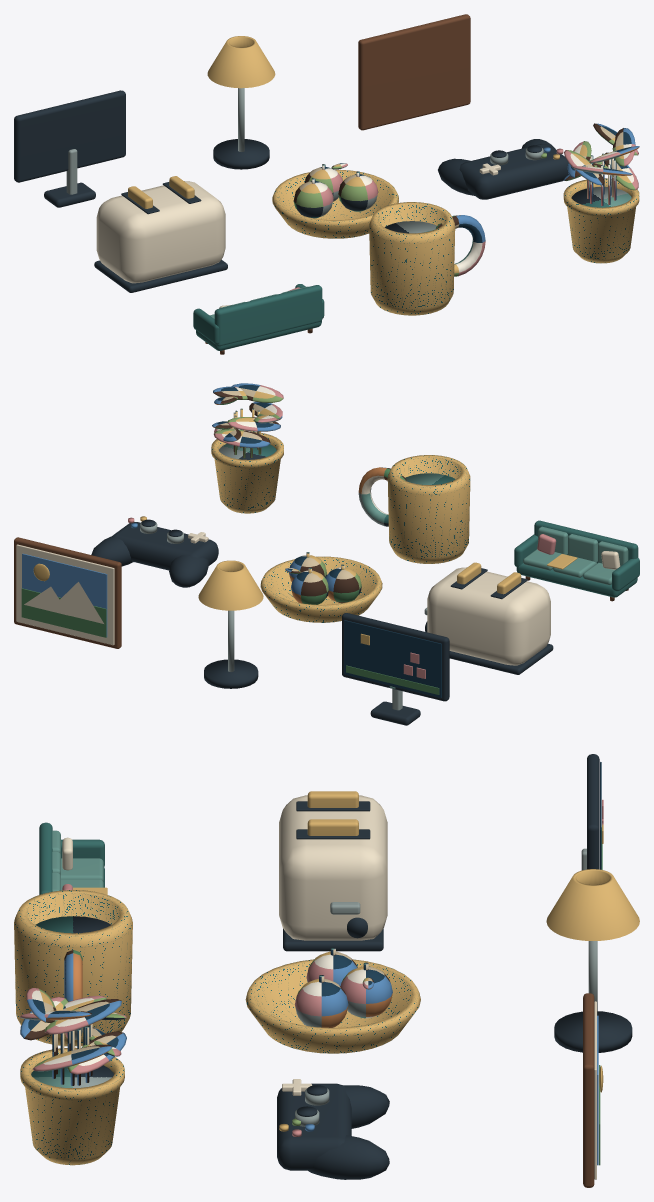
File: HouseDetailKit.fbx
The picture shows the model from 3 angles, top to bottom: view 1: azimuth 30°, elevation 25°; view 2: azimuth 150°, elevation 25°; view 3: azimuth 270°, elevation 25°; orthographic projection. The views are drawn at different scales.
Visible parts, largest first — view 1: Toaster, PictureFrame, CeramicMug, GamingMonitor, PottedFern, FruitBowl, Sofa, GameController, DeskLamp; view 2: Toaster, PictureFrame, CeramicMug, GamingMonitor, PottedFern, Sofa, FruitBowl, GameController, DeskLamp; view 3: Toaster, PottedFern, FruitBowl, CeramicMug, GameController, DeskLamp, Sofa, PictureFrame, GamingMonitor.
Boxes of the visible parts, x1,y1,x2,y2 form: Toaster: (94,176,227,292); PictureFrame: (358,14,470,130); CeramicMug: (369,202,485,315); GamingMonitor: (14,90,125,207); PottedFern: (563,123,639,263); FruitBowl: (272,163,398,238); Sofa: (193,284,324,354); GameController: (438,139,568,199); DeskLamp: (207,36,275,169); Toaster: (424,562,553,674); PictureFrame: (14,537,121,648); CeramicMug: (358,455,470,563); GamingMonitor: (342,613,449,725); PottedFern: (211,383,283,513); Sofa: (514,520,639,601); FruitBowl: (260,552,382,622); GameController: (91,516,218,587); DeskLamp: (198,560,263,688); Toaster: (279,791,387,951); PottedFern: (20,988,126,1165); FruitBowl: (245,947,420,1053); CeramicMug: (14,890,132,1046); GameController: (277,1079,389,1179); DeskLamp: (546,869,639,1052); Sofa: (39,822,107,894); PictureFrame: (583,993,603,1187); GamingMonitor: (581,754,603,870).
Bounding box in the file's own units: 11.1 × 2.7 × 9.64.
Materials: 1 (1 with a texture image).
